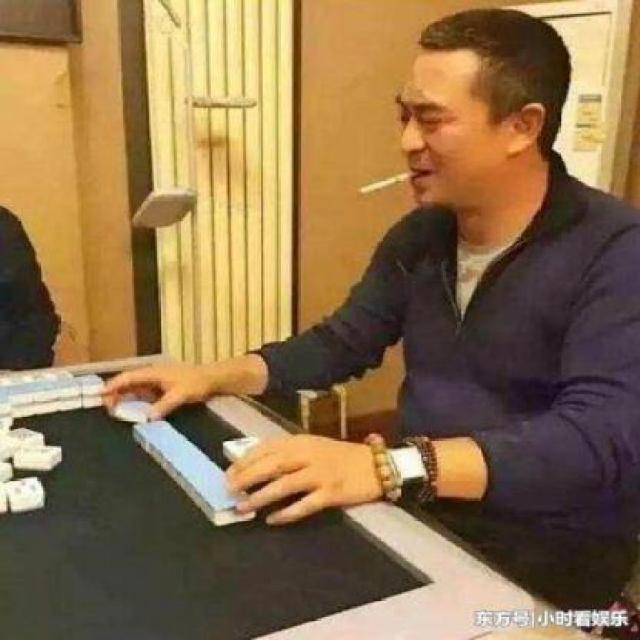cigarette: (356, 165, 422, 198)
